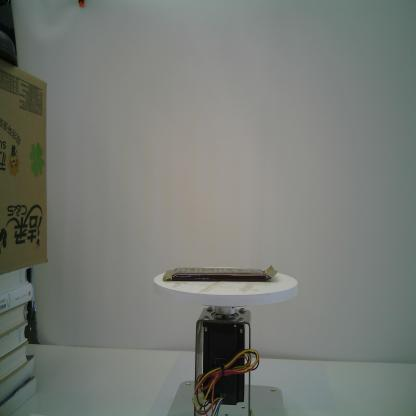Chocolate: (162, 264, 279, 283)
